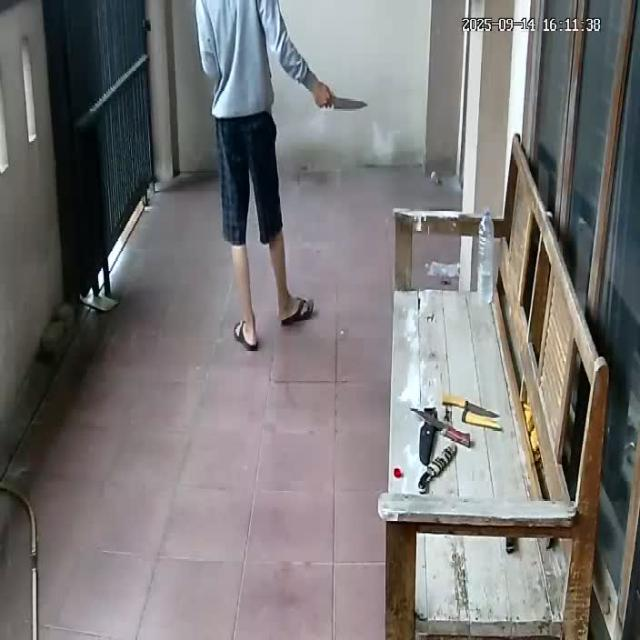senjata_tajam: (329, 95, 370, 111)
